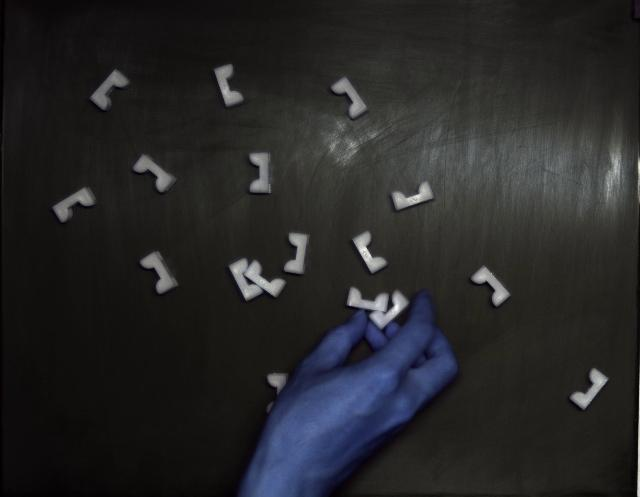third_side: (140, 251, 179, 295), (90, 70, 131, 111), (132, 154, 176, 192), (369, 290, 410, 330), (471, 266, 510, 308), (570, 369, 609, 410), (331, 76, 368, 119), (52, 188, 98, 222), (244, 261, 286, 298), (352, 231, 388, 274), (229, 259, 262, 301), (214, 64, 244, 108), (391, 181, 434, 211), (284, 232, 309, 275), (346, 288, 389, 312), (249, 152, 271, 194)
